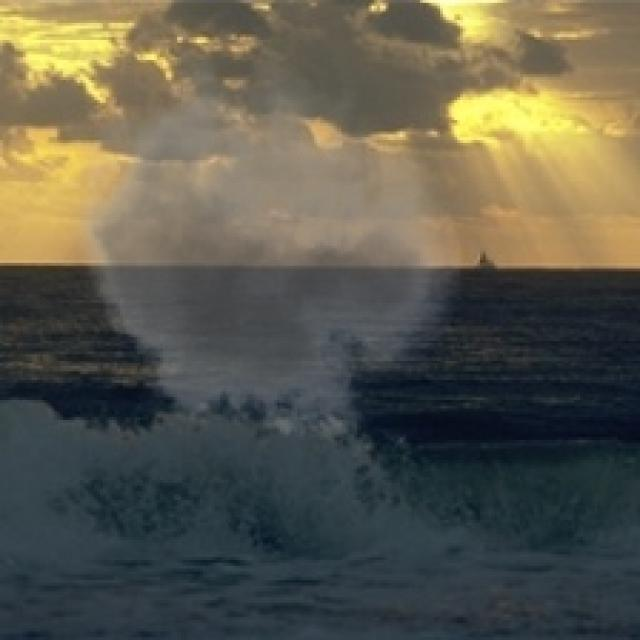smoke: (60, 49, 463, 457)
